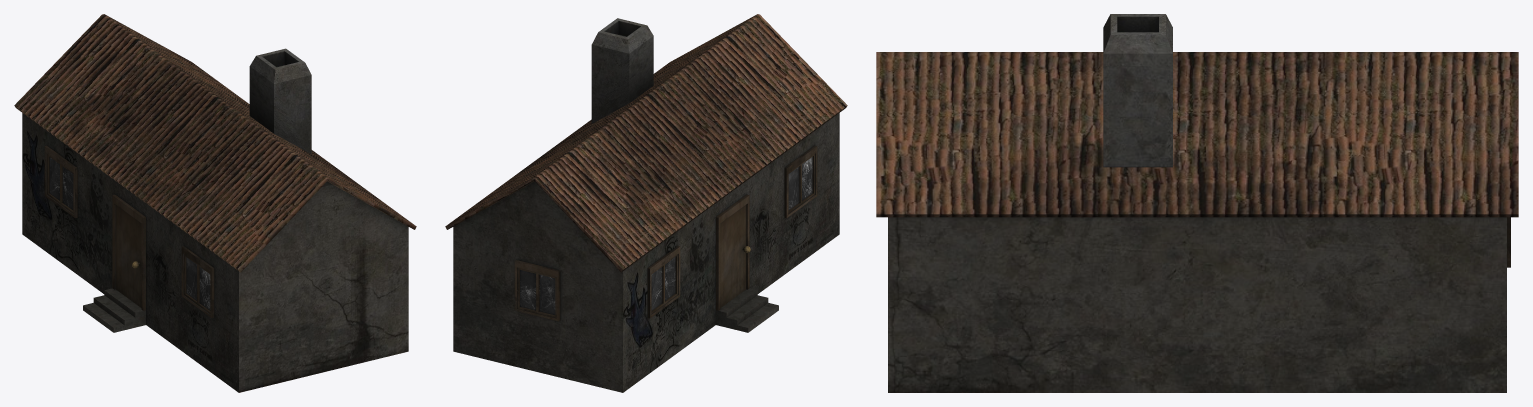
The model's file is common-house.fbx.
3 views of the same model, side by side, from view 1: azimuth 30°, elevation 25°; view 2: azimuth 150°, elevation 25°; view 3: azimuth 270°, elevation 25° (orthographic). The views are drawn at different scales.
Parts seen in each view (by area): view 1: Object_house_tex.jpg; view 2: Object_house_tex.jpg; view 3: Object_house_tex.jpg.
Boxes of the visible parts, bbox=[...] form: Object_house_tex.jpg: bbox=[14, 14, 416, 392]; Object_house_tex.jpg: bbox=[445, 14, 847, 392]; Object_house_tex.jpg: bbox=[876, 14, 1518, 392].
Bounding box in the file's own units: 1.32 × 1.46 × 2.5.
